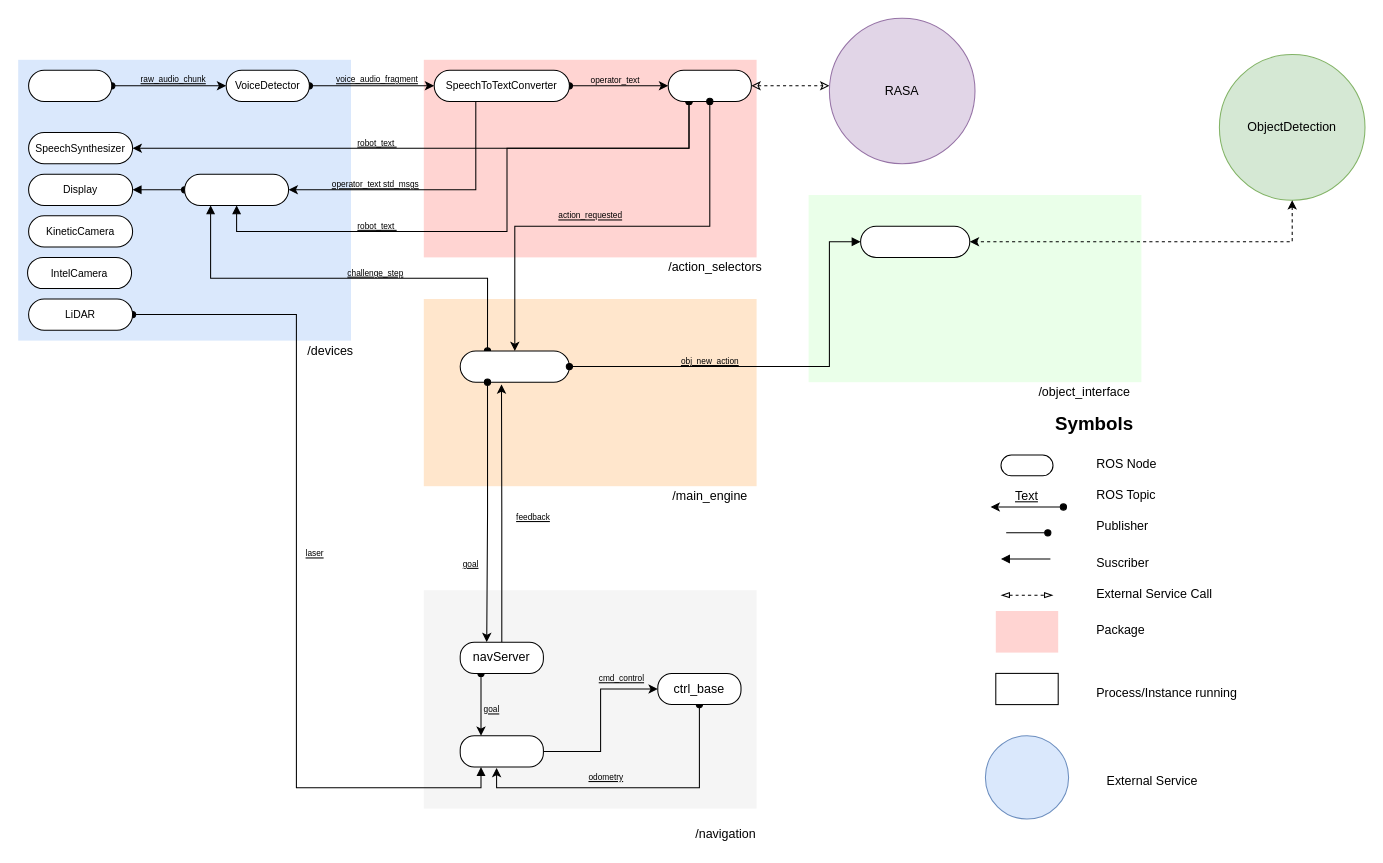
This 1383x863 diagram has some shape labels left out. Here are the shapes that lost their labels. From the top down, the box of each, then its label:
(28, 69, 112, 101): AudioCapturer
(667, 69, 751, 101): parser
(184, 173, 289, 205): VizBox
(860, 225, 970, 257): object_detection
(459, 350, 569, 382): action_manager
(459, 735, 543, 767): nav_stack
